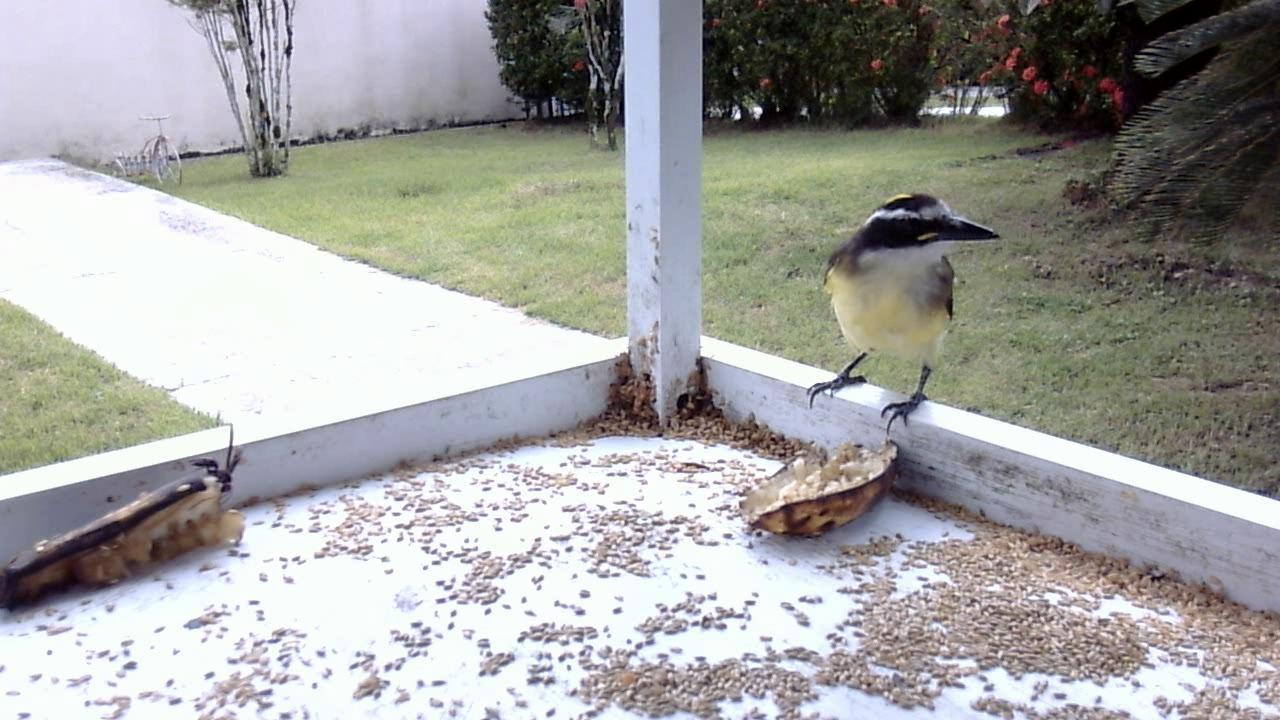bem_te_vi: (800, 187, 1004, 436)
